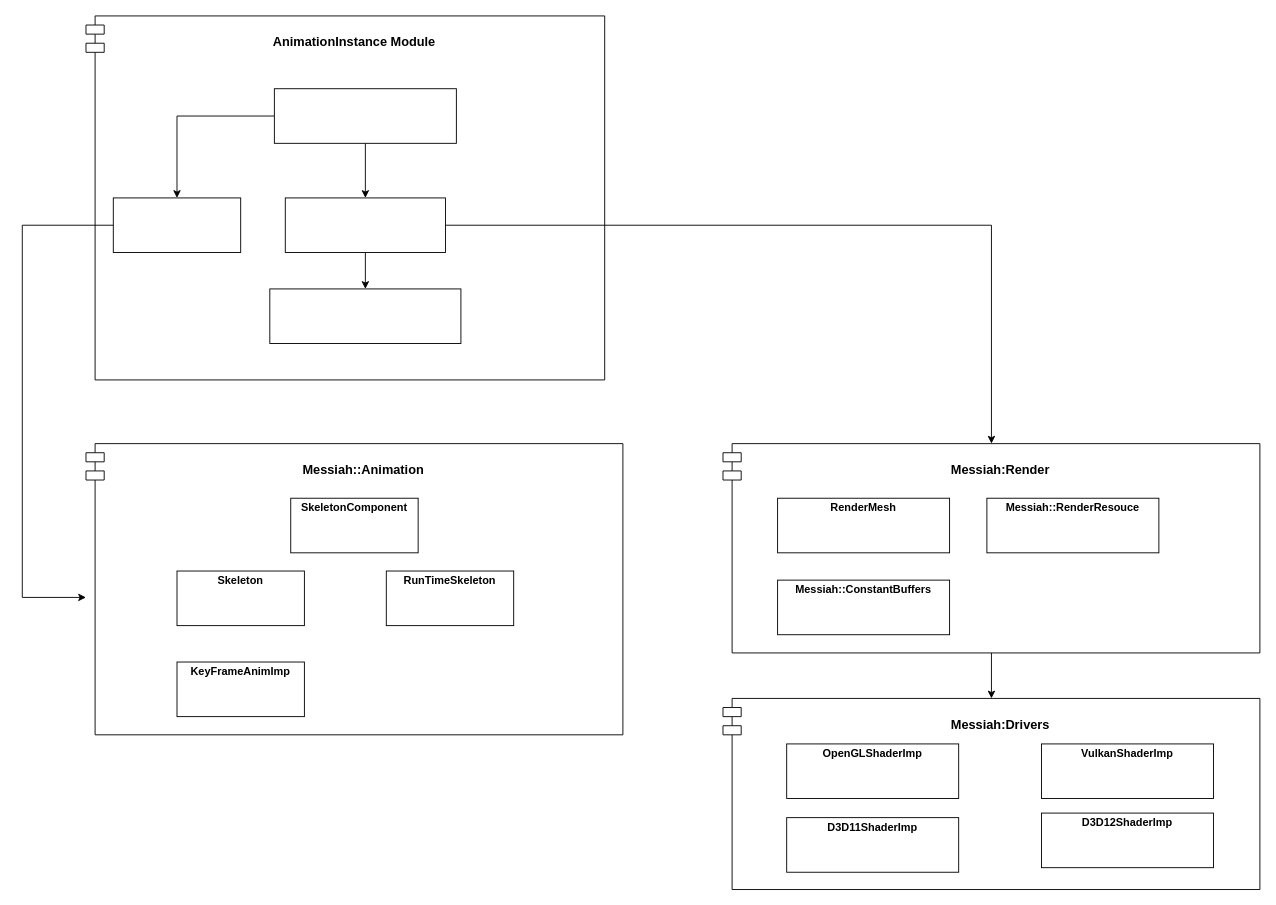
This 1276x905 diagram has some shape labels left out. Here are the shapes that lost their labels. From the top down, the centre of each, then its label:
(364,115): AnimationInstanceComponent
(176,225): AnimationCollection
(364,225): AnimationInstanceRenderer
(365,316): AnimationInstanceRenderResource
